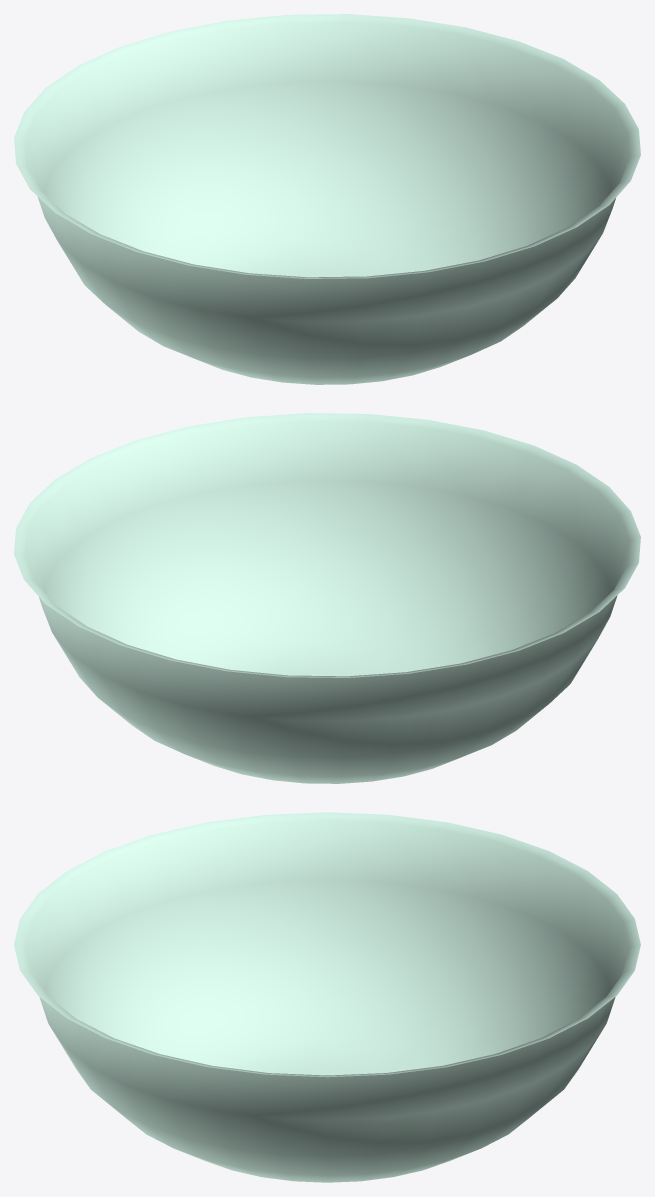
Rendered from stage.obj.
The picture shows the model from 3 angles, top to bottom: view 1: azimuth 30°, elevation 25°; view 2: azimuth 150°, elevation 25°; view 3: azimuth 270°, elevation 25°; orthographic projection.
Visible parts, largest first — view 1: Sphere; view 2: Sphere; view 3: Sphere.
Boxes of the visible parts, x1=… form: Sphere: x1=14, y1=14, x2=640, y2=384; Sphere: x1=14, y1=413, x2=640, y2=783; Sphere: x1=14, y1=812, x2=640, y2=1182.
Size of the model in its own units: 331 by 103 by 331.
1 material, 1 textured.
